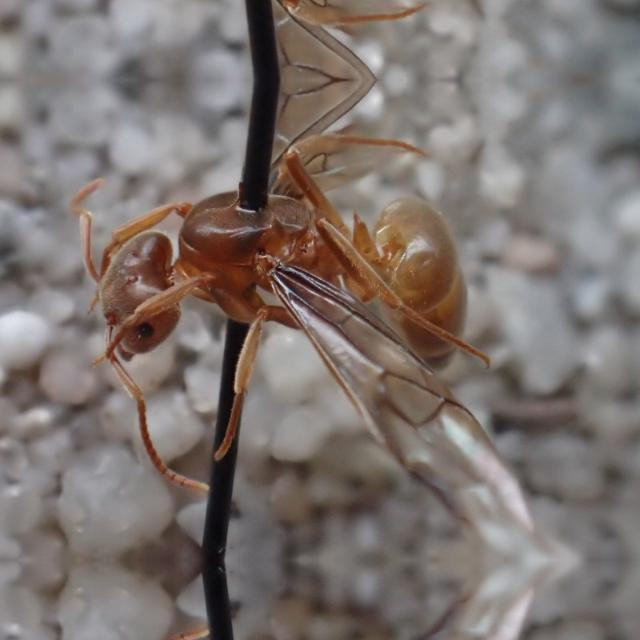Lasius: (49, 139, 540, 439)
